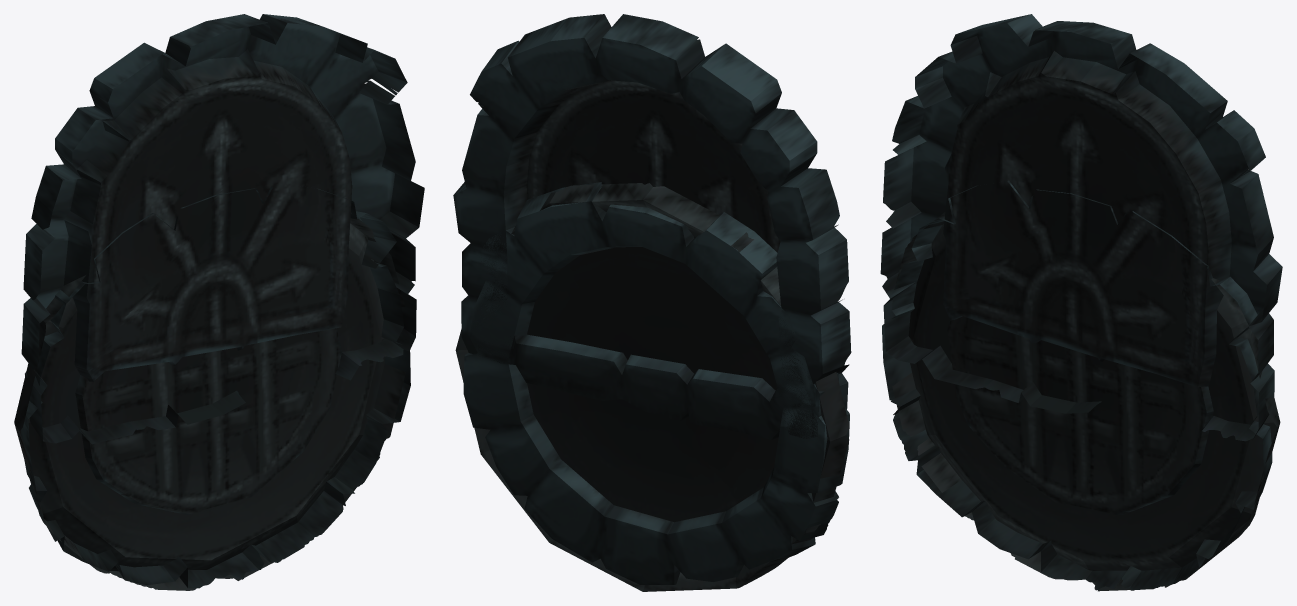
File: Pipes.fbx
3 views of the same model, side by side, from view 1: azimuth 30°, elevation 25°; view 2: azimuth 150°, elevation 25°; view 3: azimuth 330°, elevation 25° (orthographic).
Visible parts, largest first — view 1: Pipe_3, Pipe_2, Pipe_1; view 2: Pipe_3, Pipe_2, Pipe_1; view 3: Pipe_3, Pipe_2, Pipe_1.
Part boxes in pixels (left/top/right/bottom): Pipe_3: left=21, top=14, right=424, bottom=444; Pipe_2: left=21, top=186, right=410, bottom=588; Pipe_1: left=14, top=213, right=405, bottom=590; Pipe_3: left=453, top=14, right=851, bottom=439; Pipe_2: left=463, top=182, right=849, bottom=584; Pipe_1: left=455, top=183, right=849, bottom=591; Pipe_3: left=880, top=14, right=1282, bottom=441; Pipe_2: left=882, top=180, right=1272, bottom=590; Pipe_1: left=892, top=212, right=1280, bottom=591.
Bounding box in the file's own units: 5.03 × 0.4976 × 6.9.
